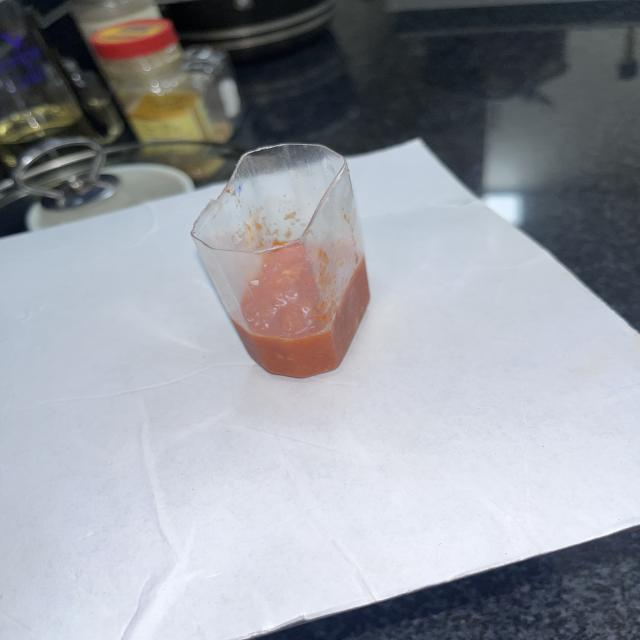blended_pepper: (233, 229, 373, 383)
